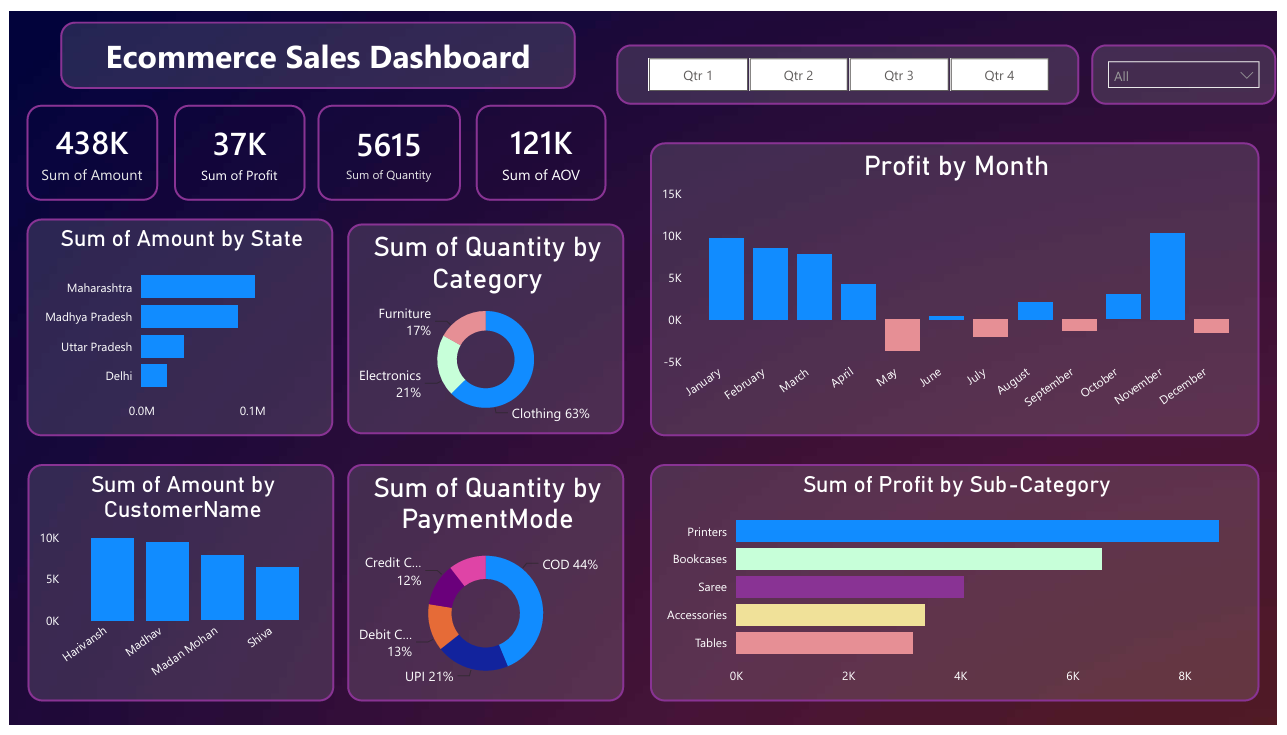

This screenshot's page, from the dashboard's own definition file:
{"tool":"powerbi","page":{"name":"Page 1","canvas":[1280,720],"ordinal":0},"visuals":[{"type":"textbox","box":[50.7,9.7,521.2,68.8],"z":0},{"type":"columnChart","title":"Profit by Month","fields":{"Y":["Sum(Details.Profit)"],"Category":["Orders.Order Date.Variation.Date Hierarchy.Month"]},"box":[646.7,131.5,616.5,298],"z":1000},{"type":"barChart","fields":{"Category":["Details.Sub-Category"],"Y":["Sum(Details.Profit)"]},"box":[646.7,457.2,616.5,240.1],"z":2000},{"type":"donutChart","fields":{"Category":["Details.Category"],"Y":["Sum(Details.Quantity)"]},"box":[341.4,213.5,279.9,213.5],"z":3000},{"type":"donutChart","fields":{"Y":["Sum(Details.Quantity)"],"Category":["Details.PaymentMode"]},"box":[341.4,457.2,279.9,240.1],"z":4000},{"type":"cardVisual","fields":{"Data":["Sum(Details.Amount)"]},"box":[16.9,94.1,132.7,96.5],"z":5000},{"type":"cardVisual","fields":{"Data":["Sum(Details.Quantity)"]},"box":[311.3,94.1,144.8,96.5],"z":6000},{"type":"cardVisual","fields":{"Data":["Sum(Details.Profit)"]},"box":[166.5,94.1,132.7,96.5],"z":7000},{"type":"cardVisual","fields":{"Data":["Sum(Details.AOV)"]},"box":[470.5,94.1,132.7,96.5],"z":8000},{"type":"barChart","fields":{"Category":["Orders.State"],"Y":["Sum(Details.Amount)"]},"box":[16.9,208.7,310.1,220.8],"z":9000},{"type":"columnChart","fields":{"Category":["Orders.CustomerName"],"Y":["Sum(Details.Amount)"]},"box":[18.1,457.2,310.1,240.1],"z":10000},{"type":"slicer","fields":{"Values":["Orders.Order Date.Variation.Date Hierarchy.Quarter"]},"box":[612.9,32.6,468.1,61.5],"z":11000},{"type":"slicer","fields":{"Values":["Orders.State"]},"box":[1093,32.6,187,61.5],"z":12000}]}

Visuals, with their boxes in screenshot pixels (x1, y1, x2, y2), scaled from the page's 1280x720 canvas onto the 1287x735 screenshot:
textbox: <bbox>51, 10, 575, 80</bbox>
"Profit by Month" columnChart: <bbox>650, 134, 1270, 438</bbox>
barChart - Details.Sub-Category x Sum(Details.Profit): <bbox>650, 467, 1270, 712</bbox>
donutChart - Details.Category x Sum(Details.Quantity): <bbox>343, 218, 625, 436</bbox>
donutChart - Sum(Details.Quantity) x Details.PaymentMode: <bbox>343, 467, 625, 712</bbox>
cardVisual - Sum(Details.Amount): <bbox>17, 96, 150, 195</bbox>
cardVisual - Sum(Details.Quantity): <bbox>313, 96, 459, 195</bbox>
cardVisual - Sum(Details.Profit): <bbox>167, 96, 301, 195</bbox>
cardVisual - Sum(Details.AOV): <bbox>473, 96, 606, 195</bbox>
barChart - Orders.State x Sum(Details.Amount): <bbox>17, 213, 329, 438</bbox>
columnChart - Orders.CustomerName x Sum(Details.Amount): <bbox>18, 467, 330, 712</bbox>
slicer - Orders.Order Date.Variation.Date Hierarchy.Quarter: <bbox>616, 33, 1087, 96</bbox>
slicer - Orders.State: <bbox>1099, 33, 1286, 96</bbox>
